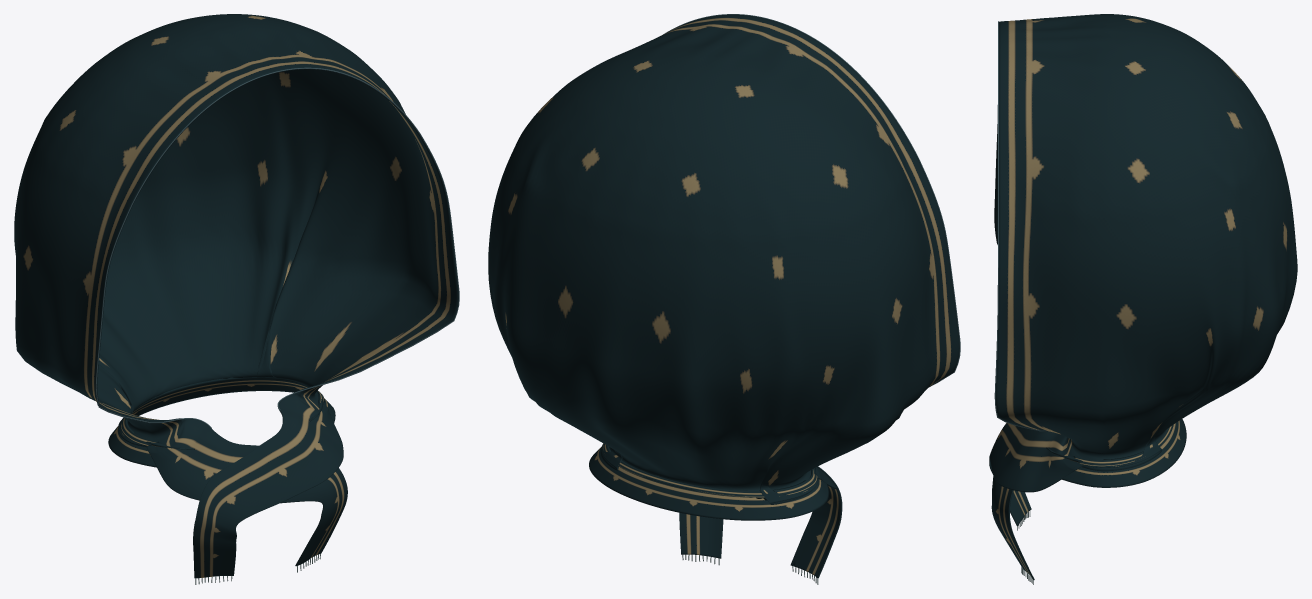
File: Feminine-open-pashmina239-headgear.glb
3 views of the same model, side by side, from view 1: azimuth 30°, elevation 25°; view 2: azimuth 150°, elevation 25°; view 3: azimuth 270°, elevation 25° (orthographic). The views are drawn at different scales.
Visible parts, largest first — view 1: 226 headgear / Headwear / continuous woven pashmina239, 226 headgear / Headwear / face edge239; view 2: 226 headgear / Headwear / continuous woven pashmina239, 226 headgear / Headwear / face edge239; view 3: 226 headgear / Headwear / continuous woven pashmina239, 226 headgear / Headwear / face edge239.
Part boxes in pixels (box(x1,y1,x2,y2)): 226 headgear / Headwear / continuous woven pashmina239: box(14, 14, 458, 578); 226 headgear / Headwear / face edge239: box(95, 67, 459, 427); 226 headgear / Headwear / continuous woven pashmina239: box(488, 14, 959, 578); 226 headgear / Headwear / face edge239: box(663, 14, 960, 387); 226 headgear / Headwear / continuous woven pashmina239: box(989, 14, 1297, 579); 226 headgear / Headwear / face edge239: box(994, 21, 1046, 431).
Bounding box in the file's own units: 1.02 × 1.35 × 0.7234.
Materials: 3 (1 with a texture image).
